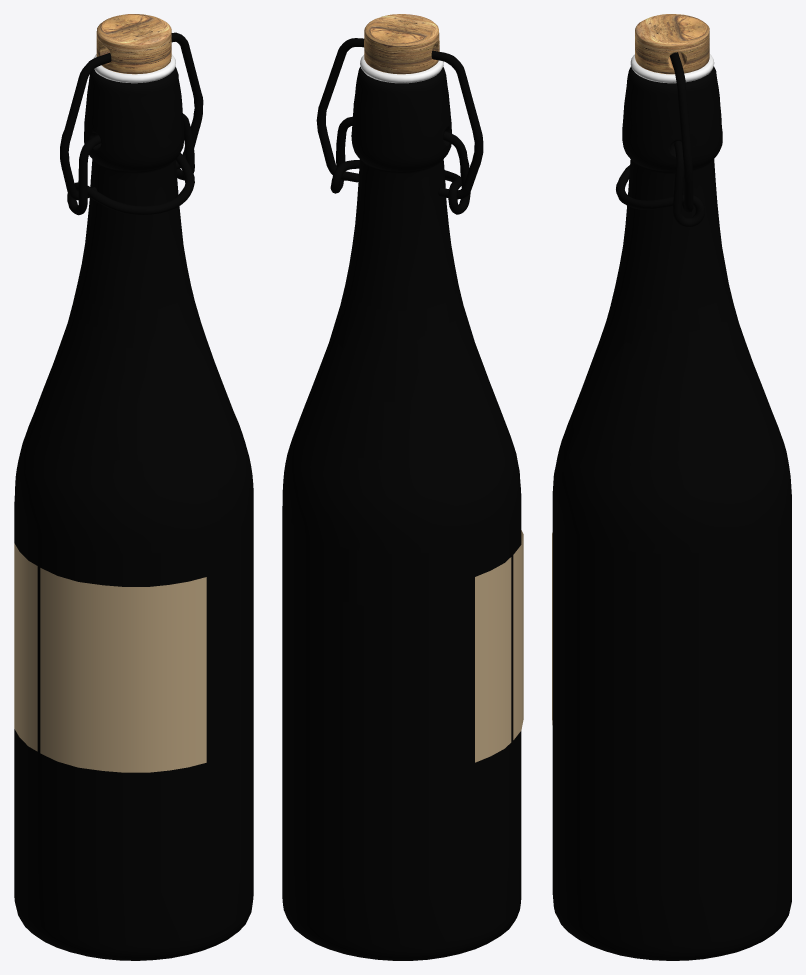
File: Bottle.fbx
3 renders of one model, left to right at view 1: azimuth 30°, elevation 25°; view 2: azimuth 150°, elevation 25°; view 3: azimuth 270°, elevation 25°, orthographic.
Parts seen in each view (by area): view 1: AM134_38_bottle_01, AM134_38_sticker_01, AM134_38_bottle_metal_01, AM134_38_bottle_white_01, AM134_38_bottle_rubber_01; view 2: AM134_38_bottle_01, AM134_38_sticker_01, AM134_38_bottle_metal_01, AM134_38_bottle_white_01, AM134_38_bottle_rubber_01; view 3: AM134_38_bottle_01, AM134_38_bottle_white_01, AM134_38_bottle_metal_01, AM134_38_bottle_rubber_01.
Part boxes in pixels (x1,y1,x2,y2): AM134_38_bottle_01: (14,67,253,960); AM134_38_sticker_01: (14,543,206,772); AM134_38_bottle_metal_01: (60,32,203,215); AM134_38_bottle_white_01: (96,14,171,74); AM134_38_bottle_rubber_01: (93,54,175,83); AM134_38_bottle_01: (282,66,521,960); AM134_38_sticker_01: (475,530,523,762); AM134_38_bottle_metal_01: (316,38,483,214); AM134_38_bottle_white_01: (364,14,439,74); AM134_38_bottle_rubber_01: (360,54,443,83); AM134_38_bottle_01: (552,66,791,960); AM134_38_bottle_white_01: (635,14,709,74); AM134_38_bottle_metal_01: (616,52,704,227); AM134_38_bottle_rubber_01: (630,54,714,83).
Bounding box in the file's own units: 7.59 × 7.57 × 30.9.
5 materials, 1 textured.
